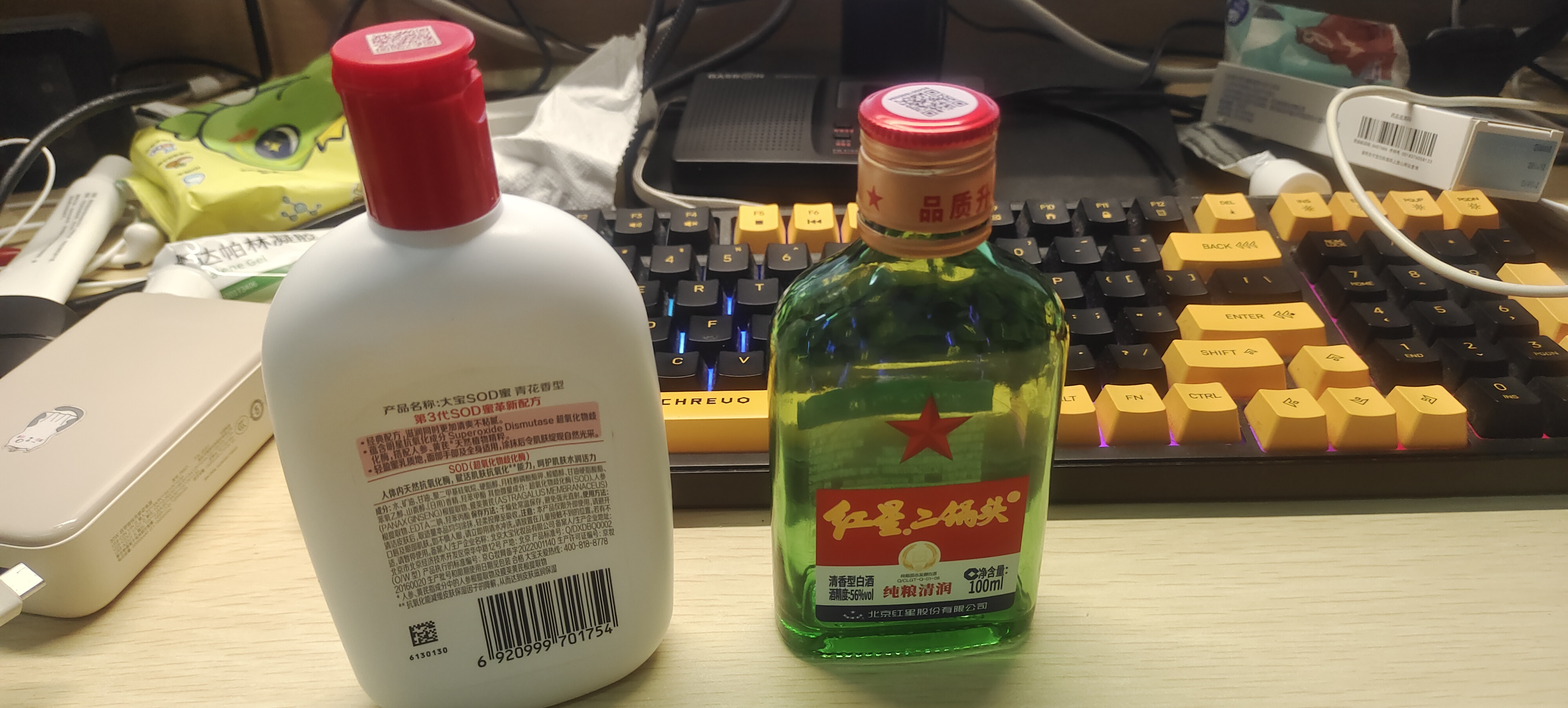redbull: (759, 114, 1083, 708)
